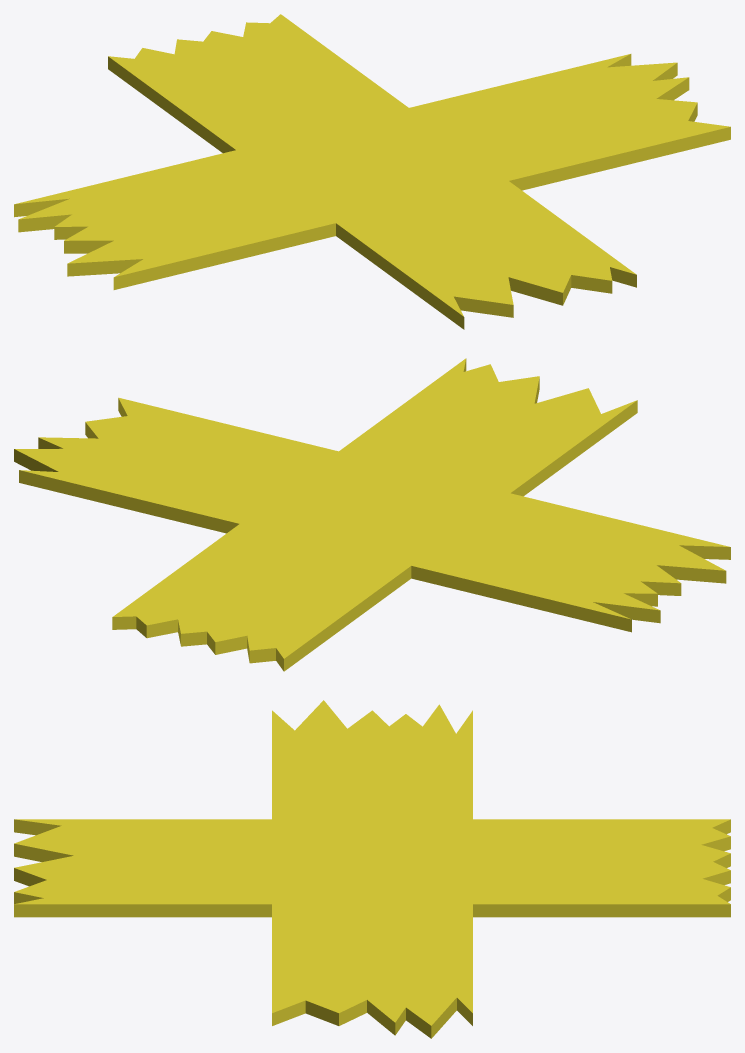
File: Band.fbx
The picture shows the model from 3 angles, top to bottom: view 1: azimuth 30°, elevation 25°; view 2: azimuth 150°, elevation 25°; view 3: azimuth 270°, elevation 25°; orthographic projection.
Visible parts, largest first — view 1: Cube; view 2: Cube; view 3: Cube.
Part boxes in pixels (x1,y1,x2,y2): Cube: (14, 14, 730, 329); Cube: (14, 358, 730, 671); Cube: (14, 700, 730, 1038).
Bounding box in the file's own units: 26.89 × 0.5 × 25.
